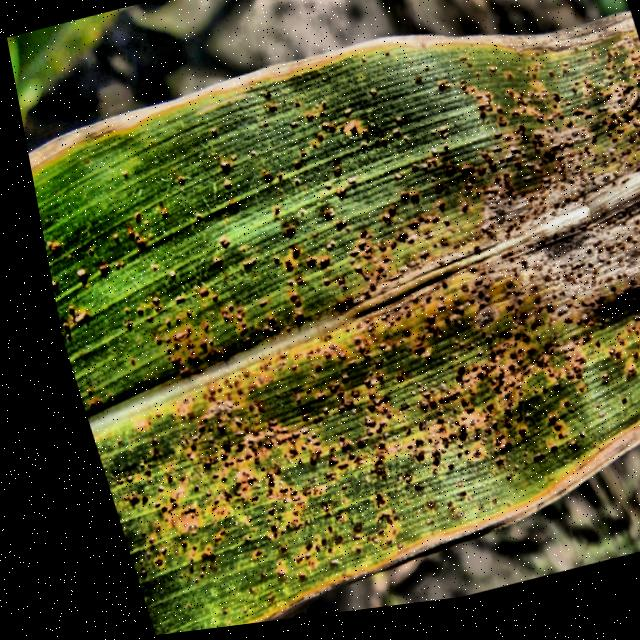common_rust: (28, 0, 640, 635)
